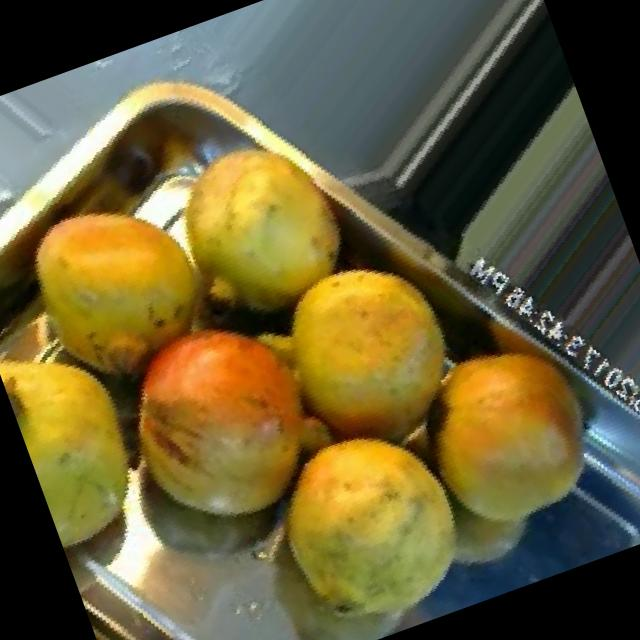fruit: (62, 260, 377, 580), (109, 80, 405, 366), (192, 380, 513, 640), (224, 208, 506, 501), (372, 291, 640, 575), (0, 148, 255, 419), (0, 308, 192, 570)
